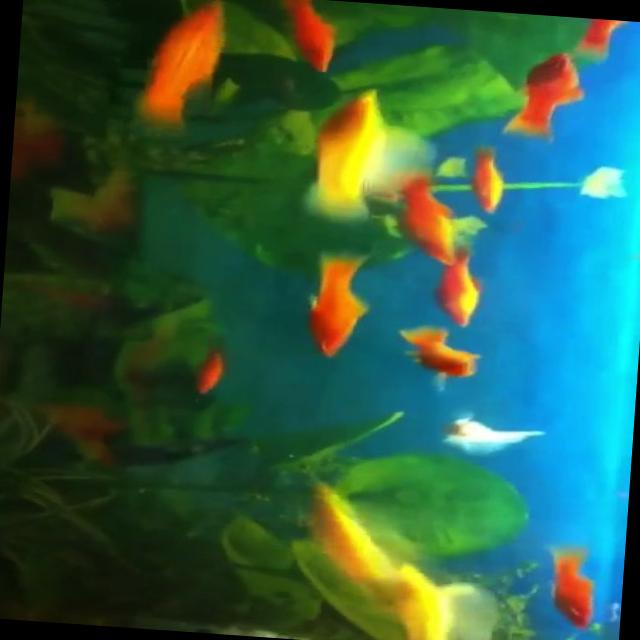PlatyFish: (280, 75, 452, 226), (120, 0, 252, 147), (486, 39, 594, 148), (298, 242, 377, 372), (389, 164, 466, 273), (534, 538, 607, 638), (454, 140, 523, 222)
